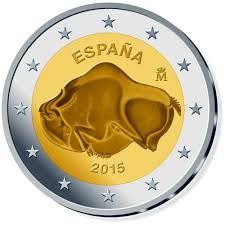eur002: (3, 2, 222, 224)
